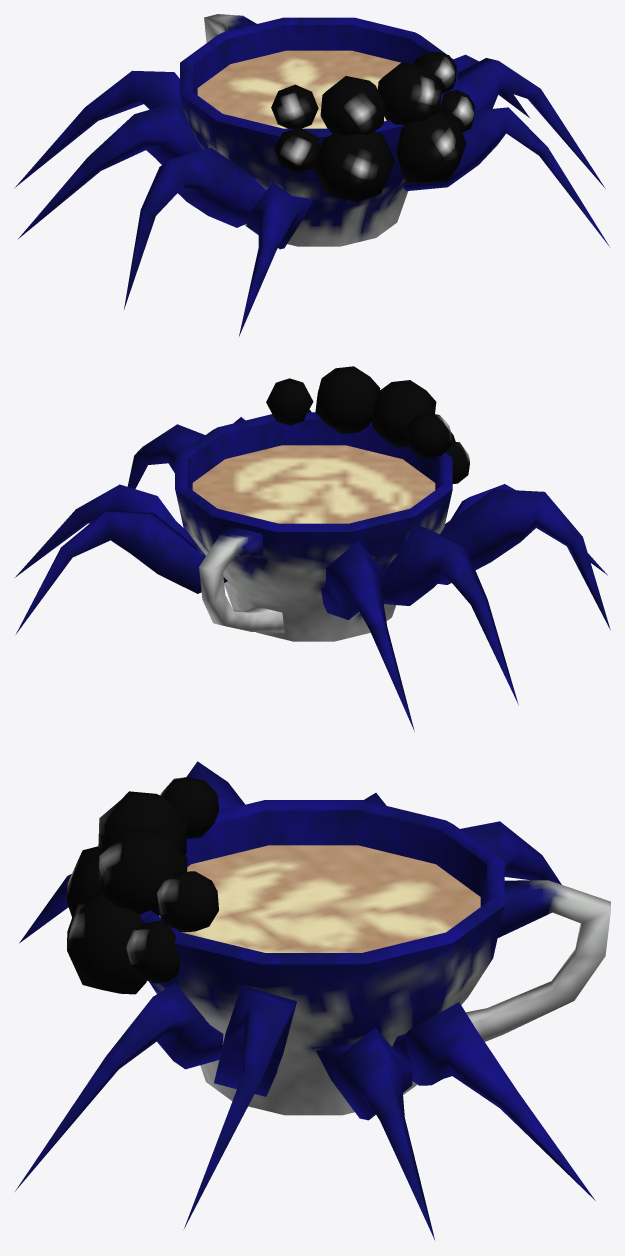
Rendered from Cappucino.fbx.
3 views of the same model, one above another, from view 1: azimuth 30°, elevation 25°; view 2: azimuth 150°, elevation 25°; view 3: azimuth 270°, elevation 25° (orthographic). The views are drawn at different scales.
Visible parts, largest first — view 1: Cappucino; view 2: Cappucino; view 3: Cappucino.
Part boxes in pixels (<box>): Cappucino: <box>14,14,609,336</box>; Cappucino: <box>15,366,610,731</box>; Cappucino: <box>15,761,610,1239</box>.
Size of the model in its own units: 37.22 by 12.96 by 27.45.
